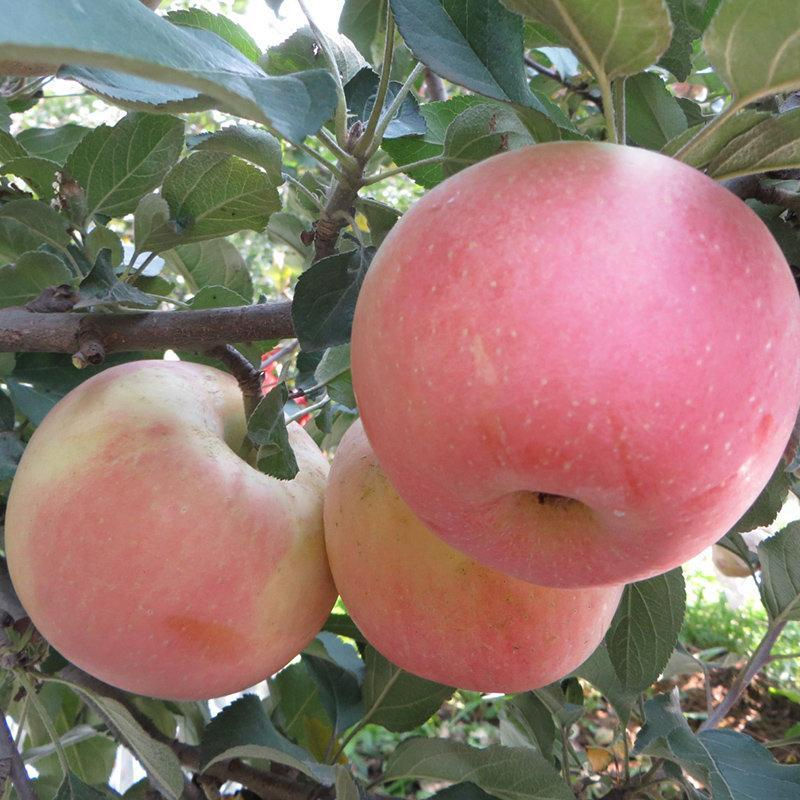apple: (346, 135, 795, 586), (4, 360, 341, 703)
